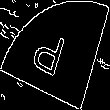P_S: (34, 25, 76, 85)
